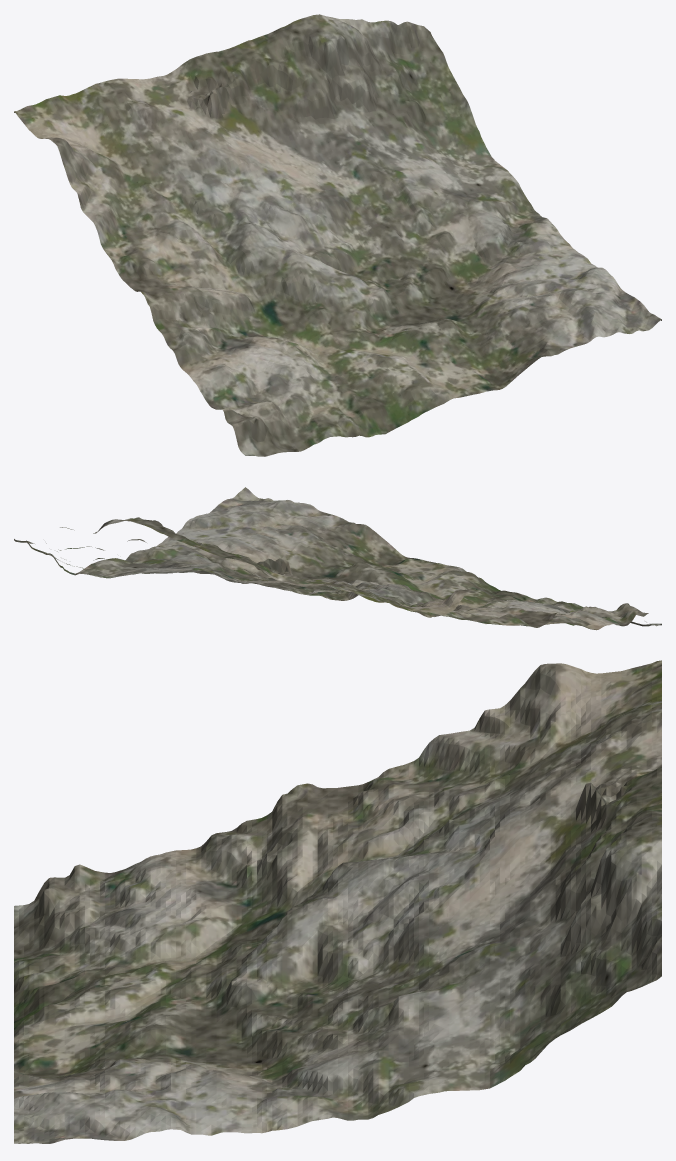
3 renders of one model, top to bottom at view 1: azimuth 30°, elevation 25°; view 2: azimuth 150°, elevation 25°; view 3: azimuth 270°, elevation 25°, orthographic. The views are drawn at different scales.
Size of the model in its own units: 250 by 122 by 241.
1 material, 1 textured.
